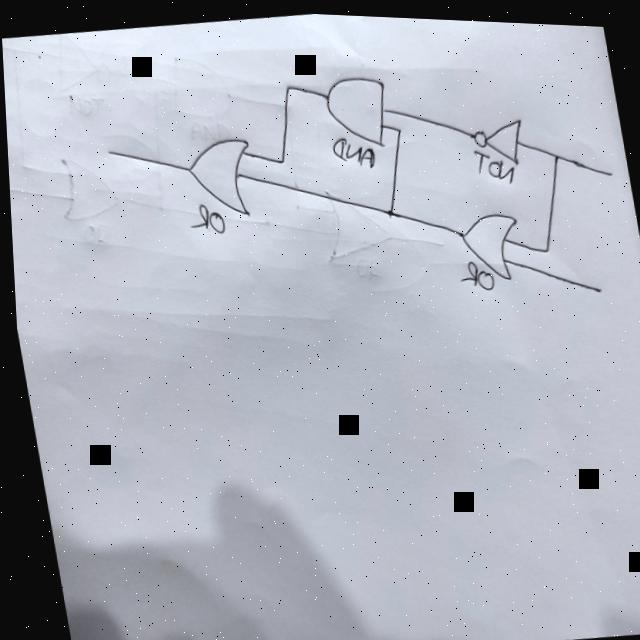junction: (278, 75, 294, 92), (547, 140, 562, 158), (537, 237, 551, 251), (382, 200, 395, 214), (275, 152, 286, 165), (392, 118, 401, 130)
terminal: (100, 141, 117, 157), (600, 158, 615, 174), (589, 277, 601, 289)
text: (470, 139, 516, 184), (328, 128, 376, 170), (182, 197, 225, 234), (453, 250, 493, 288)
